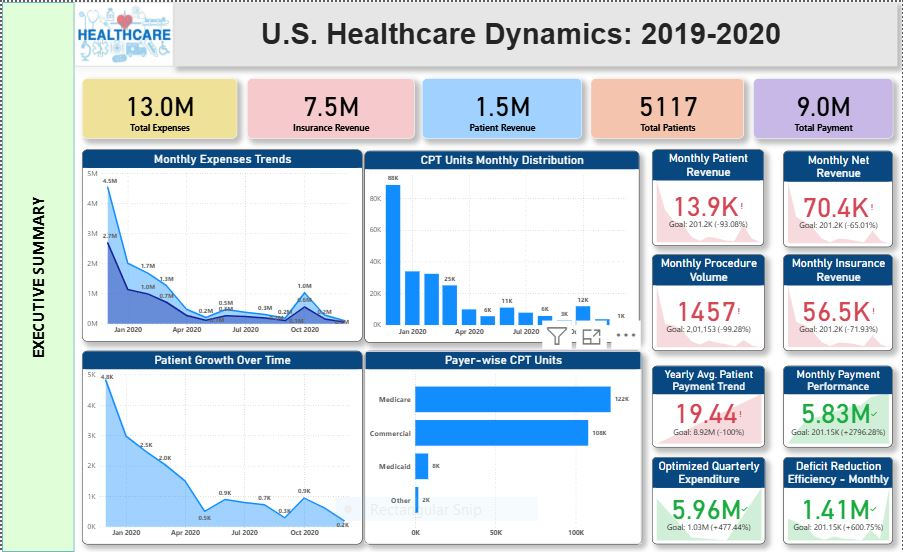

What the dashboard file says about the page in this screenshot:
{"tool":"powerbi","page":{"name":"Executive Summary","canvas":[1800,1100],"ordinal":1},"visuals":[{"type":"shape","box":[343.6,0,1448.3,129.1],"z":0},{"type":"shape","box":[0,0,144.6,1100],"z":1000},{"type":"card","fields":{"Values":["Measure Table.CountPatient"]},"box":[1176.8,152.5,306.8,120.7],"z":3000},{"type":"card","fields":{"Values":["Sum(FactTable.Insurance_Payment)"]},"box":[564,158,222,104],"z":4000},{"type":"textbox","box":[344.3,25.8,1403,103.3],"z":5000},{"type":"areaChart","title":" Monthly Expenses Trends","fields":{"Y":["Sum(FactTable.Gross Expenses)","Sum(FactTable.Insurance_Payment)"],"Category":["DimDate.Start of Month"]},"box":[160.1,296.1,561.2,383.9],"z":6000},{"type":"areaChart","title":"Patient Growth Over Time","fields":{"Category":["DimDate.Start of Month"],"Y":["Measure Table.DistinctPatient"]},"box":[160.1,697.2,561.2,387.3],"z":7000},{"type":"columnChart","title":" CPT Units Monthly Distribution","fields":{"Y":["Sum(FactTable.CPTUnits)"],"Category":["DimDate.Start of Month"]},"box":[725.8,296.7,549.8,383.9],"z":8000},{"type":"clusteredBarChart","title":" Payer-wise CPT Units","fields":{"Category":["Payer_Lookup.PayerName"],"Y":["Sum(FactTable.CPTUnits)"]},"box":[725.8,697.3,554.9,387.2],"z":9000},{"type":"card","fields":{"Values":["Sum(FactTable.Gross Expenses)"]},"box":[159.2,152.5,310.1,120.7],"z":10000},{"type":"card","fields":{"Values":["Sum(FactTable.Insurance_Payment)"]},"box":[489.5,152.5,335.3,120.7],"z":11000},{"type":"card","fields":{"Values":["Sum(FactTable.Patient_Payment)"]},"box":[839.8,152.5,320.2,120.7],"z":12000},{"type":"kpi","title":"Monthly Net Revenue","fields":{"Indicator":["Measure Table.TotalPayment"],"TrendLine":["DimDate.Start of Month"],"Goal":["Measure Table.Previous MonthPay"]},"box":[1562.3,296.7,219.6,192.8],"z":13000},{"type":"kpi","title":"Monthly Insurance Revenue","fields":{"TrendLine":["DimDate.Start of Month"],"Indicator":["Sum(FactTable.Insurance_Payment)"],"Goal":["Measure Table.Previous MonthPay"]},"box":[1562.3,504.6,219.6,192.8],"z":14000},{"type":"kpi","title":"Monthly Patient Revenue ","fields":{"TrendLine":["DimDate.Start of Month"],"Indicator":["Sum(FactTable.Patient_Payment)"],"Goal":["Measure Table.Previous MonthPay"]},"box":[1299.7,296.1,223.8,192.8],"z":15000},{"type":"kpi","title":" Monthly Procedure Volume","fields":{"TrendLine":["DimDate.Start of Month"],"Indicator":["Sum(FactTable.CPTUnits)"],"Goal":["Measure Table.Previous MonthPay"]},"box":[1299.7,504.4,225.5,192.8],"z":16000},{"type":"actionButton","box":[22,46,100,40],"z":17000},{"type":"image","box":[144.2,0,199.5,129.1],"z":18000},{"type":"card","fields":{"Values":["Sum(FactTable.TotalPayment)"]},"box":[1502,152.5,279.9,120.7],"z":19000},{"type":"kpi","title":"Yearly Avg. Patient Payment Trend","fields":{"Goal":["Measure Table.Previous MonthPay"],"Indicator":["Measure Table.AveragePatientPay"],"TrendLine":["DimDate.Date.Variation.Date Hierarchy.Year"]},"box":[1299.7,728.2,225.5,163.5],"z":20000},{"type":"kpi","title":"Monthly Payment Performance","fields":{"Goal":["Measure Table.Previous MonthPay"],"Indicator":["Measure Table.YTDPayment"],"TrendLine":["DimDate.Date.Variation.Date Hierarchy.Month"]},"box":[1563.1,728.2,218.6,163.5],"z":21000},{"type":"kpi","title":"Optimized Quarterly Expenditure","fields":{"Goal":["Measure Table.Previous MonthPay"],"TrendLine":["DimDate.Date.Variation.Date Hierarchy.Quarter"],"Indicator":["Measure Table.TotalGrossExpense"]},"box":[1300,910,226,174],"z":22000},{"type":"kpi","title":"Deficit Reduction Efficiency - Monthly","fields":{"TrendLine":["DimDate.Date.Variation.Date Hierarchy.Month"],"Goal":["Measure Table.Previous MonthPay"],"Indicator":["Measure Table.TotalDeficit"]},"box":[1563,910,219,174],"z":23000}]}

Visuals, with their boxes in screenshot pixels (x1, y1, x2, y2), scaled from the page's 1800x1100 canvas onto the 903x552 screenshot:
shape: [x1=172, y1=0, x2=899, y2=65]
shape: [x1=0, y1=0, x2=73, y2=551]
card - Measure Table.CountPatient: [x1=590, y1=77, x2=744, y2=137]
card - Sum(FactTable.Insurance_Payment): [x1=283, y1=79, x2=394, y2=131]
textbox: [x1=173, y1=13, x2=877, y2=65]
" Monthly Expenses Trends" areaChart: [x1=80, y1=149, x2=362, y2=341]
"Patient Growth Over Time" areaChart: [x1=80, y1=350, x2=362, y2=544]
" CPT Units Monthly Distribution" columnChart: [x1=364, y1=149, x2=640, y2=342]
" Payer-wise CPT Units" clusteredBarChart: [x1=364, y1=350, x2=642, y2=544]
card - Sum(FactTable.Gross Expenses): [x1=80, y1=77, x2=235, y2=137]
card - Sum(FactTable.Insurance_Payment): [x1=246, y1=77, x2=414, y2=137]
card - Sum(FactTable.Patient_Payment): [x1=421, y1=77, x2=582, y2=137]
"Monthly Net Revenue" kpi: [x1=784, y1=149, x2=894, y2=246]
"Monthly Insurance Revenue" kpi: [x1=784, y1=253, x2=894, y2=350]
"Monthly Patient Revenue " kpi: [x1=652, y1=149, x2=764, y2=245]
" Monthly Procedure Volume" kpi: [x1=652, y1=253, x2=765, y2=350]
actionButton: [x1=11, y1=23, x2=61, y2=43]
image: [x1=72, y1=0, x2=172, y2=65]
card - Sum(FactTable.TotalPayment): [x1=754, y1=77, x2=894, y2=137]
"Yearly Avg. Patient Payment Trend" kpi: [x1=652, y1=365, x2=765, y2=447]
"Monthly Payment Performance" kpi: [x1=784, y1=365, x2=894, y2=447]
"Optimized Quarterly Expenditure" kpi: [x1=652, y1=457, x2=766, y2=544]
"Deficit Reduction Efficiency - Monthly" kpi: [x1=784, y1=457, x2=894, y2=544]
